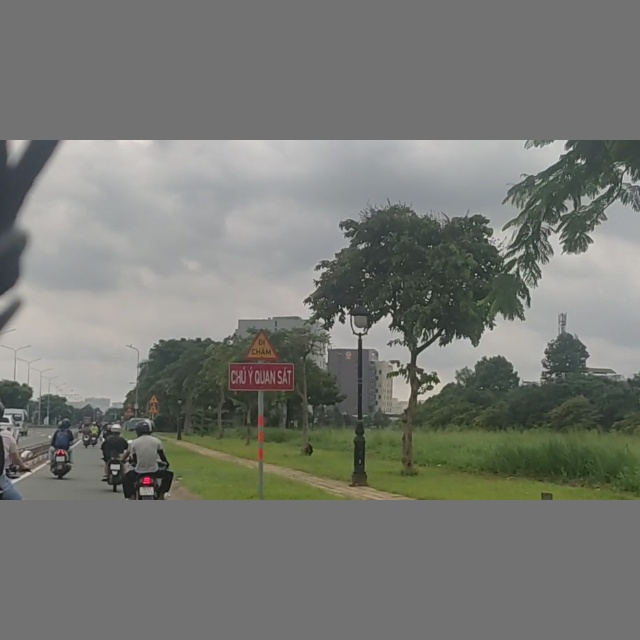W.207: (149, 394, 159, 403)
W.224: (149, 405, 158, 413)
W.245a: (247, 329, 277, 359)
